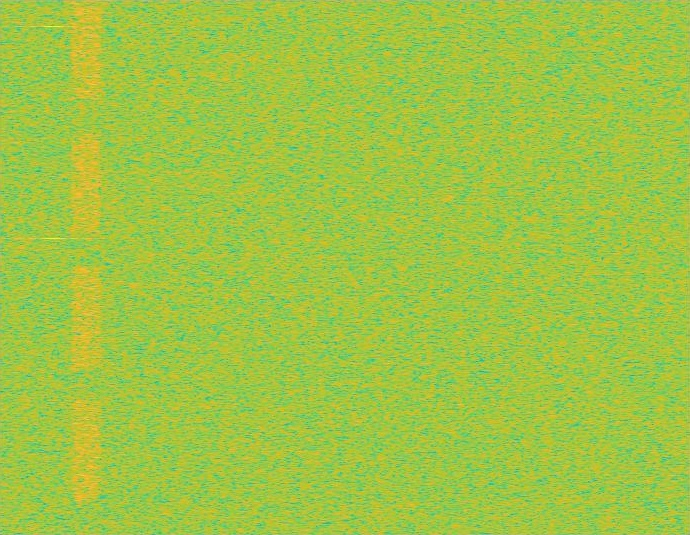5G: (69, 0, 104, 534)
Radar: (46, 0, 60, 534)
